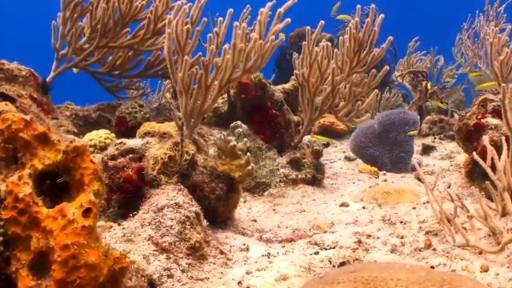Fish: (468, 72, 499, 91), (331, 1, 341, 17), (311, 135, 335, 141), (432, 101, 447, 108), (336, 15, 352, 21), (408, 130, 418, 135), (428, 82, 432, 91), (279, 33, 285, 39)
